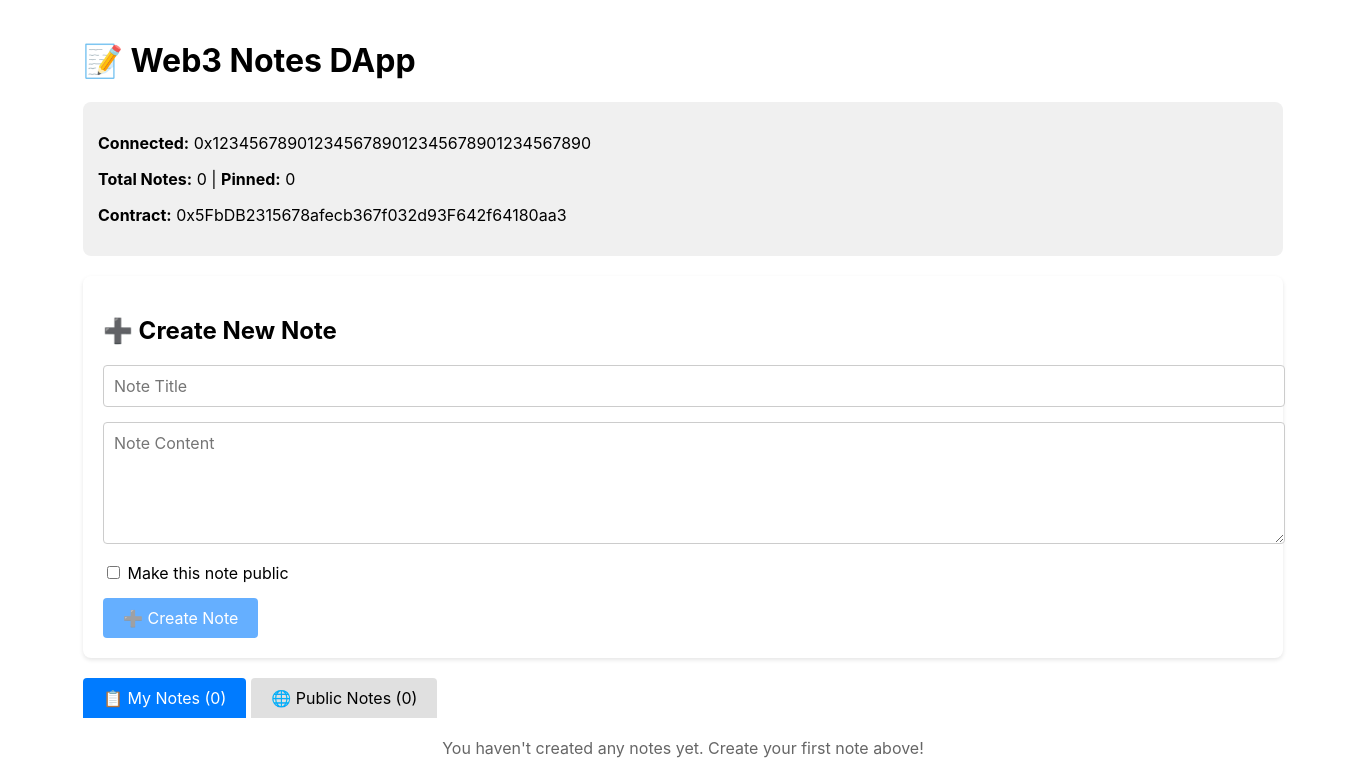
Notes Component › Creating Notes › should enable create button when title and content are filled
Type "Test Title" into the field with placeholder "Note Title" at [694, 386], box [103,365,1285,407]
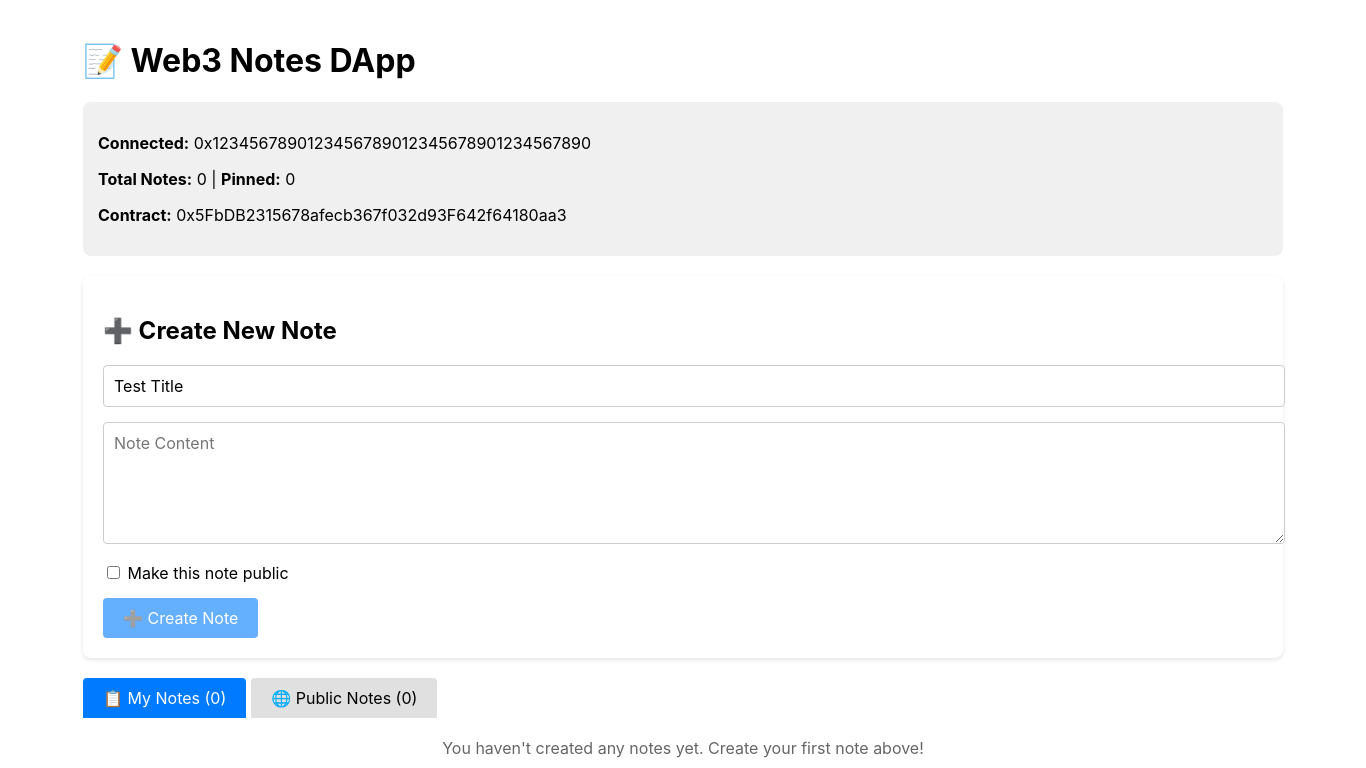
Type "Test Content" into the text box with placeholder "Note Content" at [694, 483], box [103,422,1285,544]
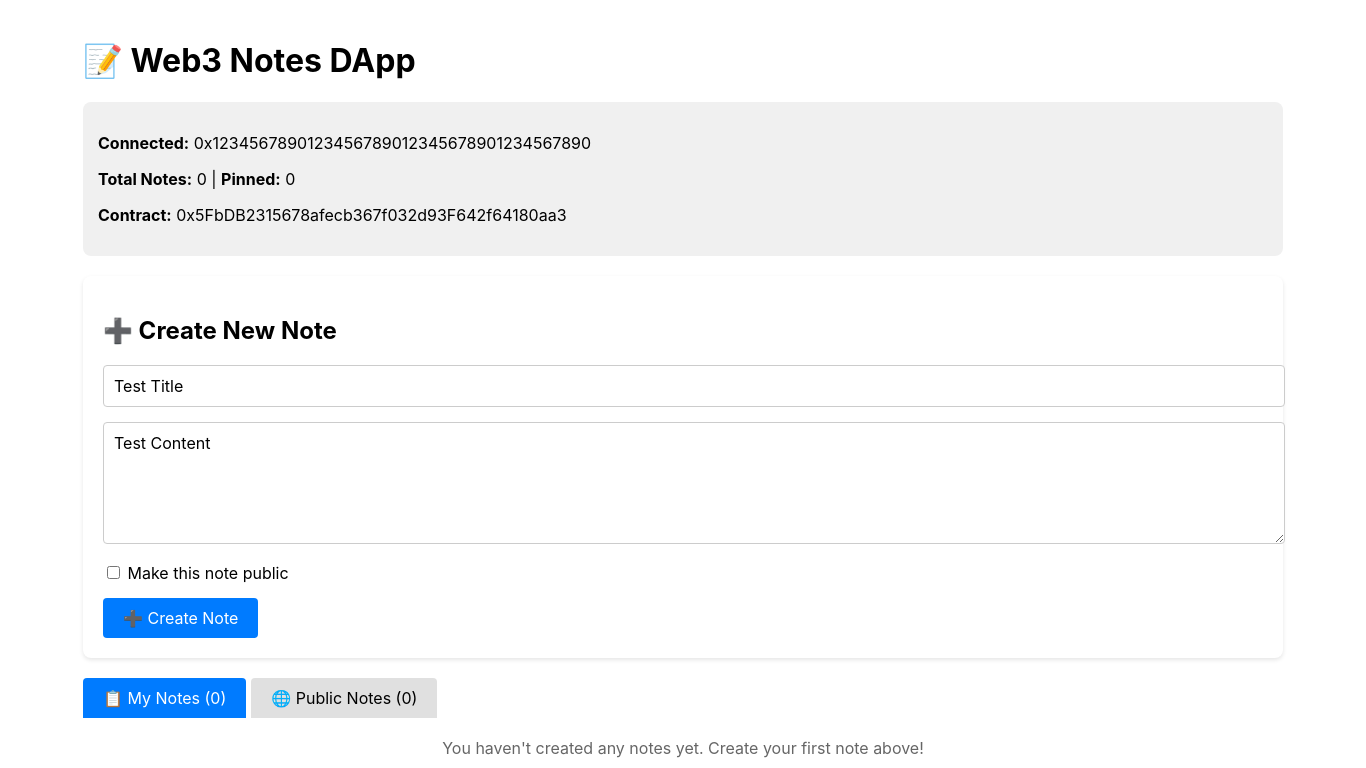
Now the button "➕ Create Note" is enabled, box [103,598,258,638]
